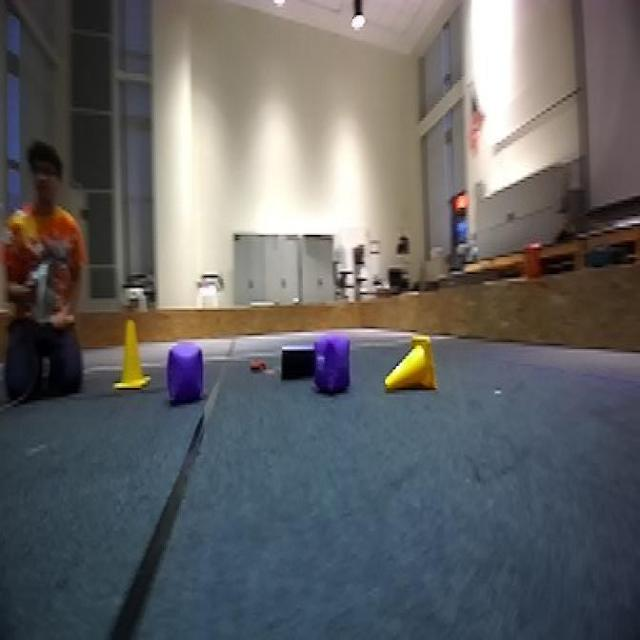frc_cone: (382, 328, 440, 402), (112, 312, 154, 393)
frc_cube: (166, 334, 204, 412), (312, 330, 354, 397)
